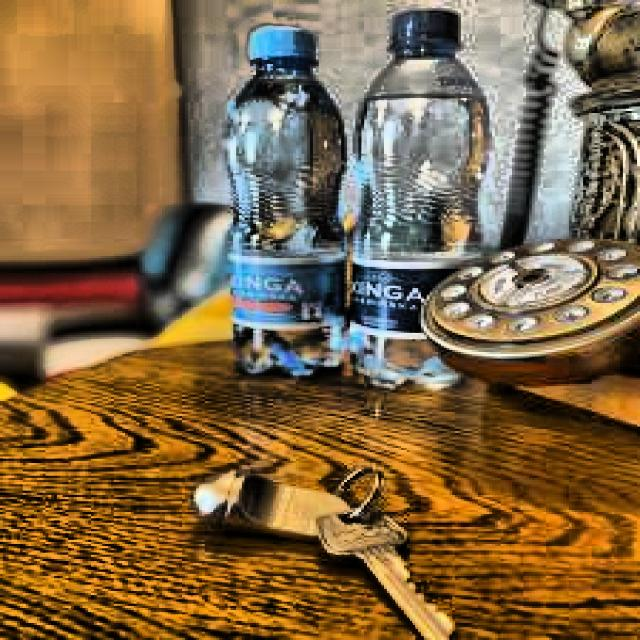Bottles: (347, 0, 523, 397), (196, 9, 360, 400)
